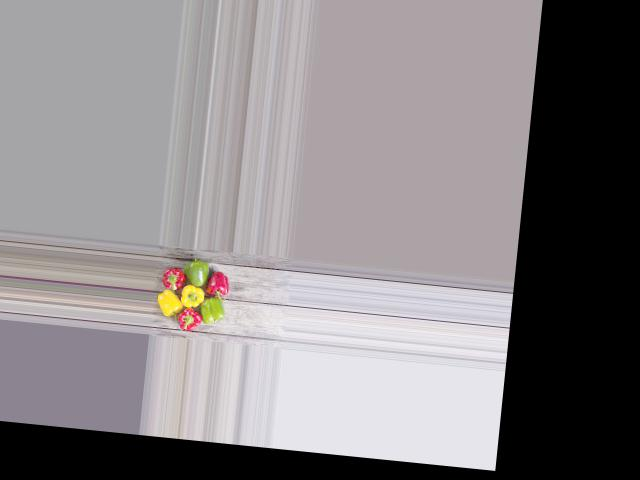bell_pepper: (155, 266, 186, 295)
